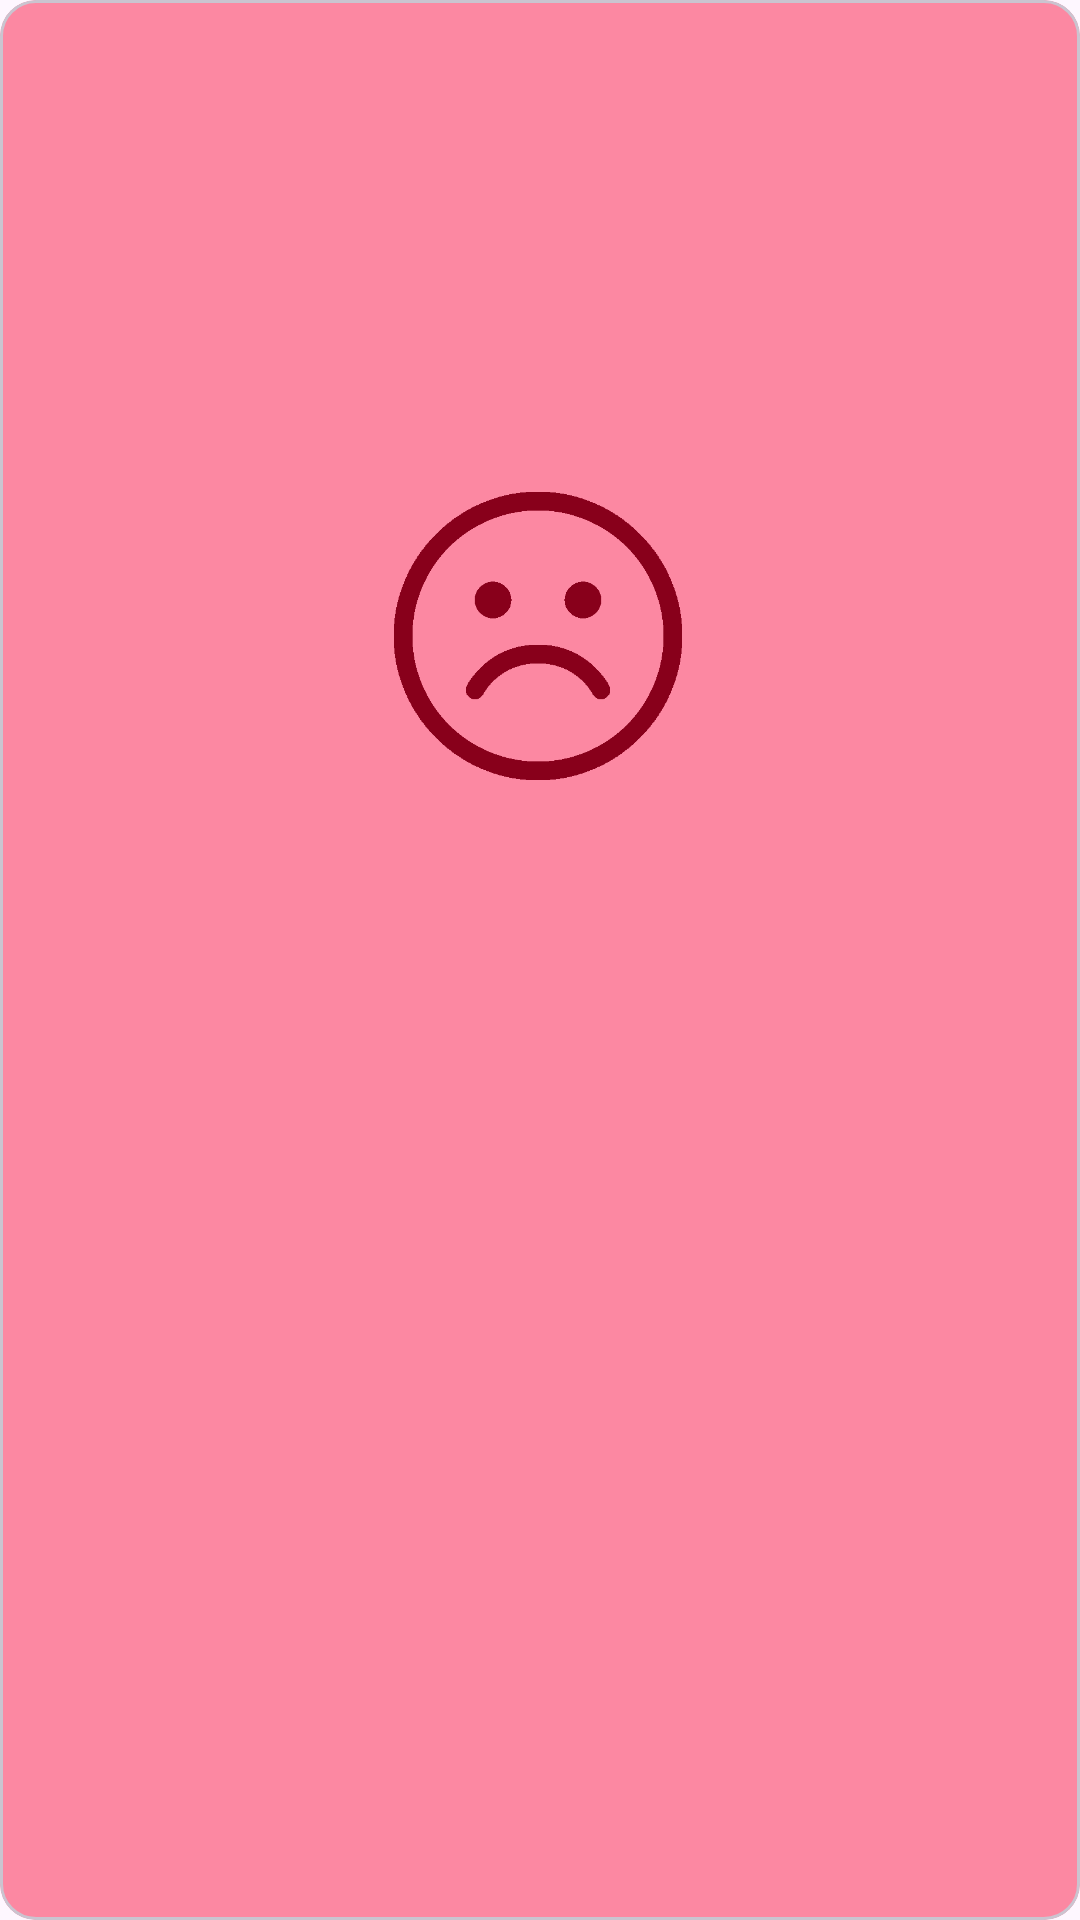

Named icons in this screenshot (1080px×1920px) and their bounding boxes, [left=x1, top=y1, right=x2, bottom=y2]:
triste: [left=394, top=492, right=682, bottom=780]
